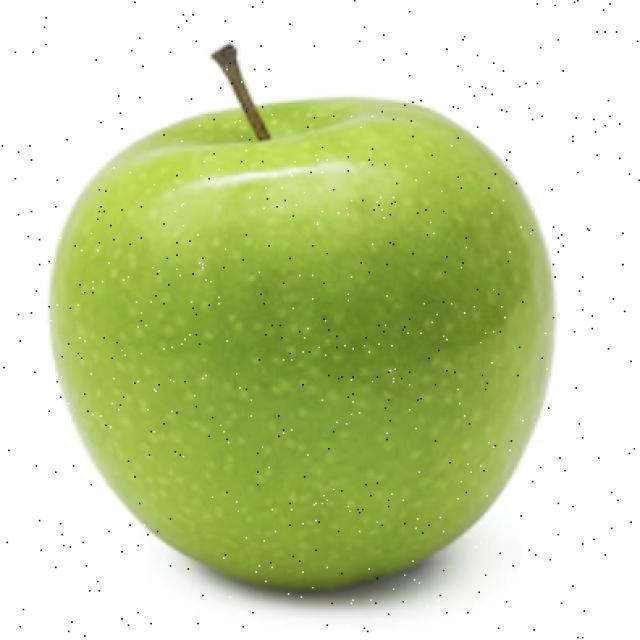Fresh Apple: (80, 82, 543, 590)
